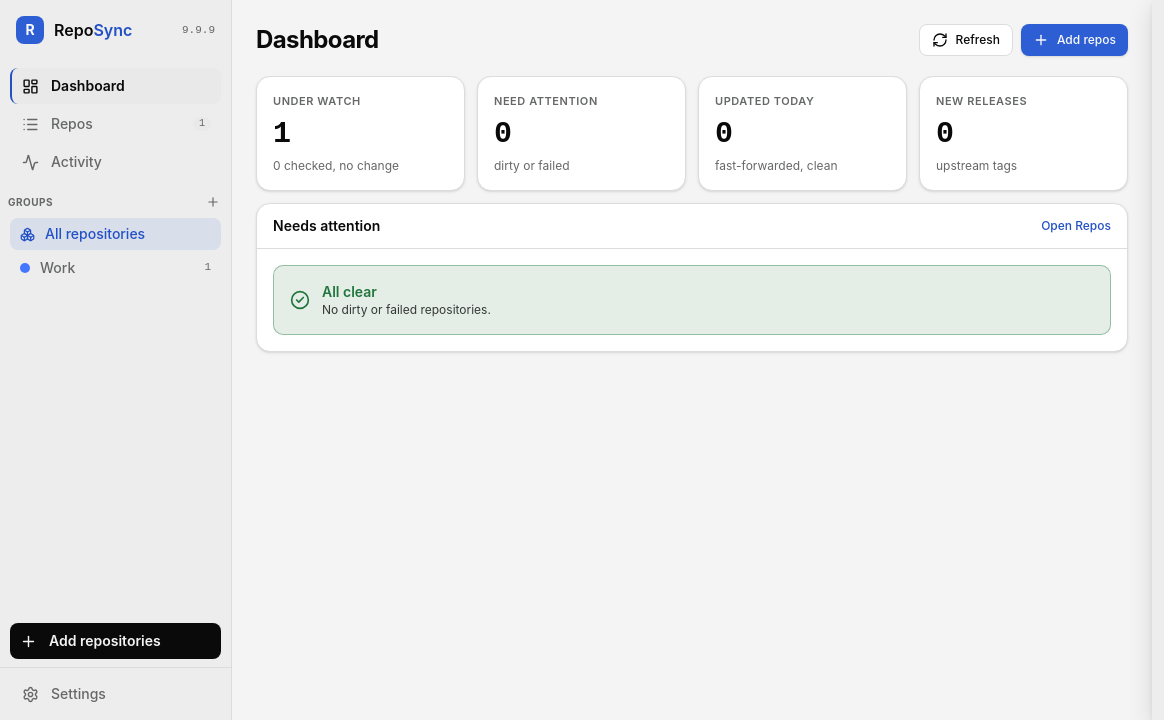
Test case: AppShell sidebar › the engaged group reaches the Activity screen's query, not just the sidebar (A2)
The image size is (1164, 720).
Expected: the heading "Dashboard" is shown, [256,26,379,54]
Click the button "Work": (107, 268) [10,252,204,284]
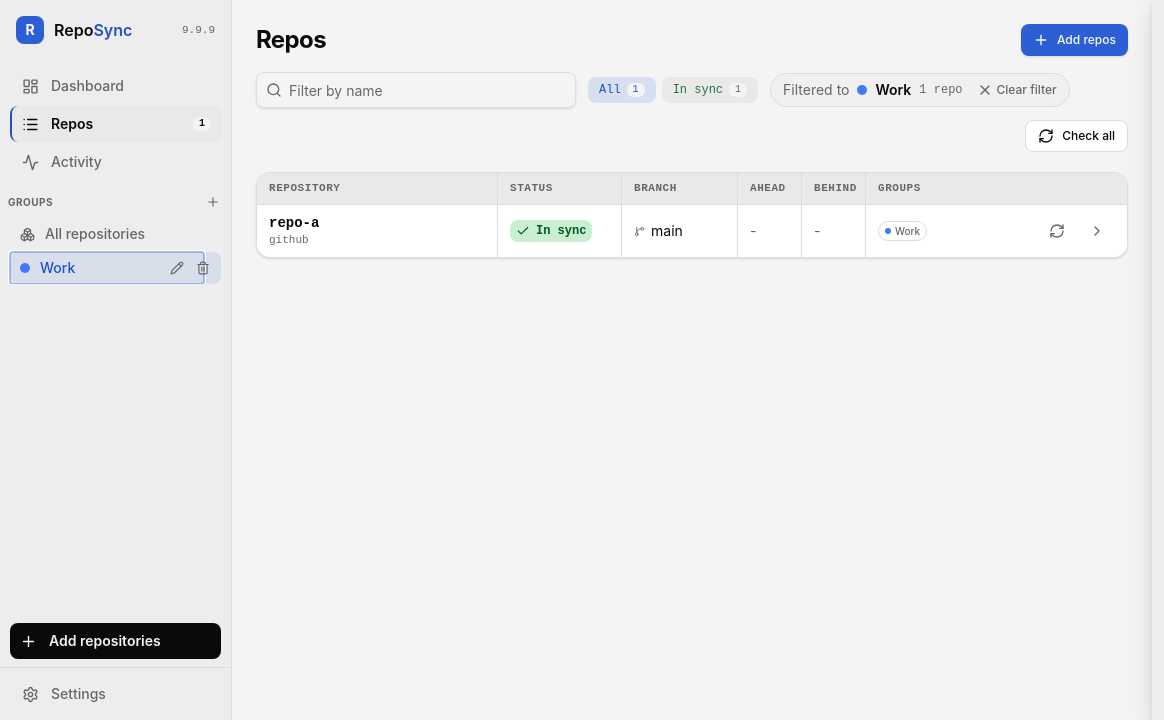
Result: the heading "Repos" is shown at [256,26,326,54]
Click the button "Activity": (116, 162) [10,144,221,180]
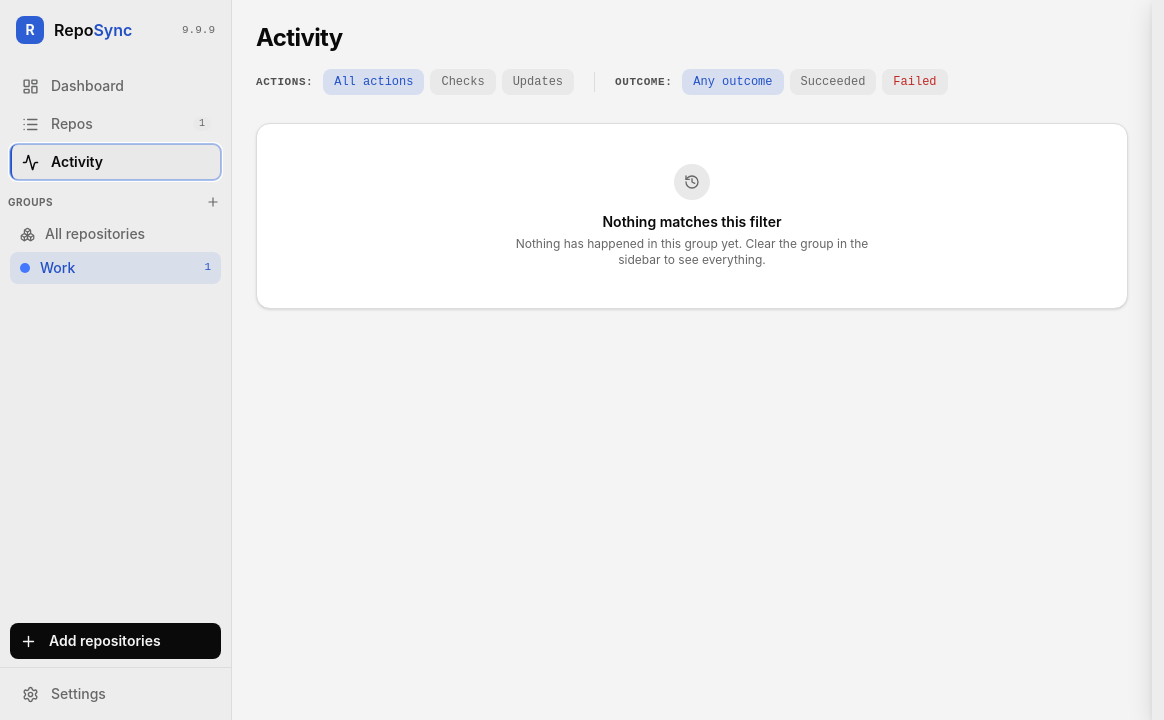
Result: the heading "Activity" is shown at [256,24,343,53]
